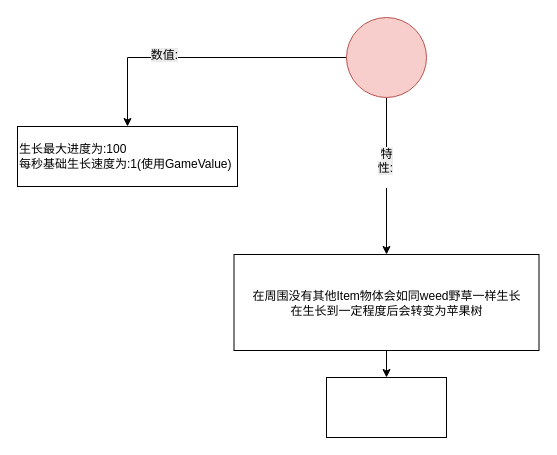
Image size: 557x455. Some labels were removed from this diagram. The centre of each missing label's shape, as x and y in pixels:
"苹果" goes at pixel 386 57.
"苹果转变为苹果树需要在草地上 也就是在Tag为Fertile的TileMap上" goes at pixel 386 407.
